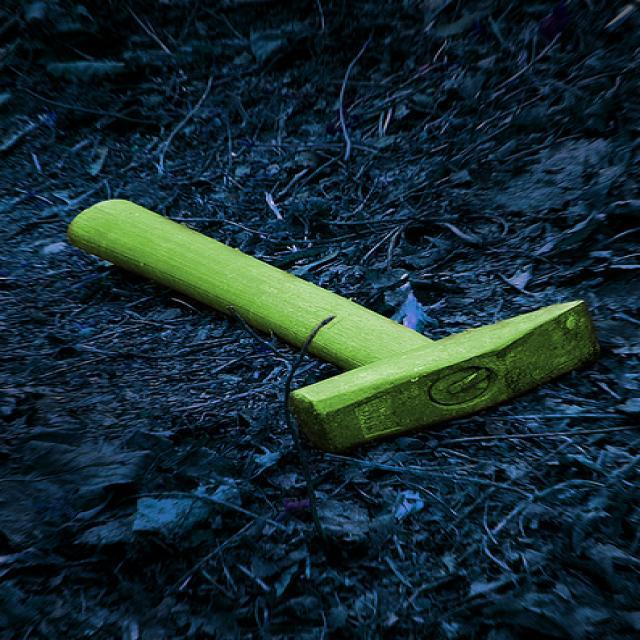hammer: (63, 181, 611, 467)
